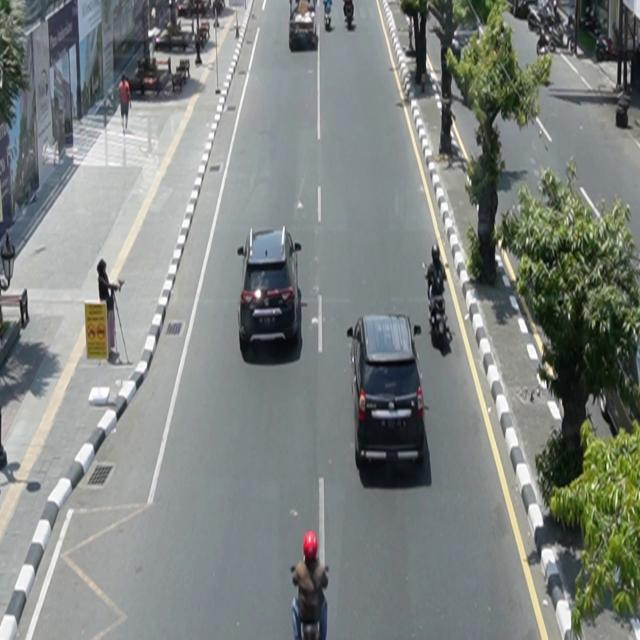car: (347, 314, 427, 471), (237, 226, 303, 348), (289, 1, 319, 52)
